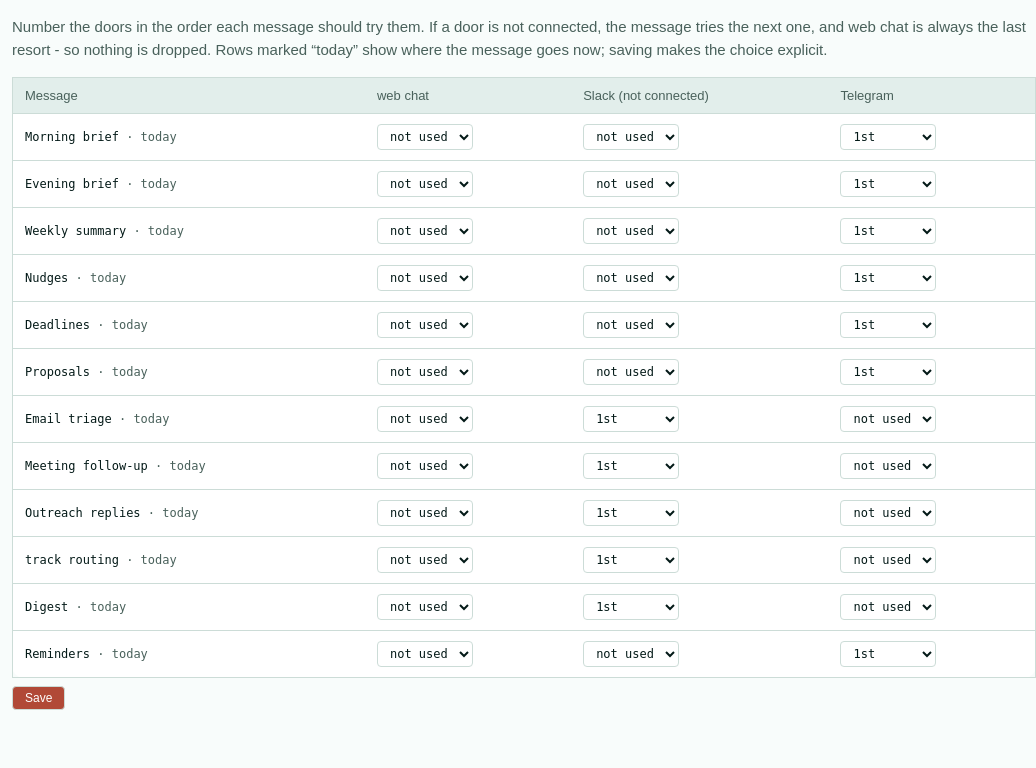
Test: DeliveryGrid › shows the refusal sentence from the save
Step 1. Click the button "Save" → coordinates (39, 698), box [12, 686, 65, 710]
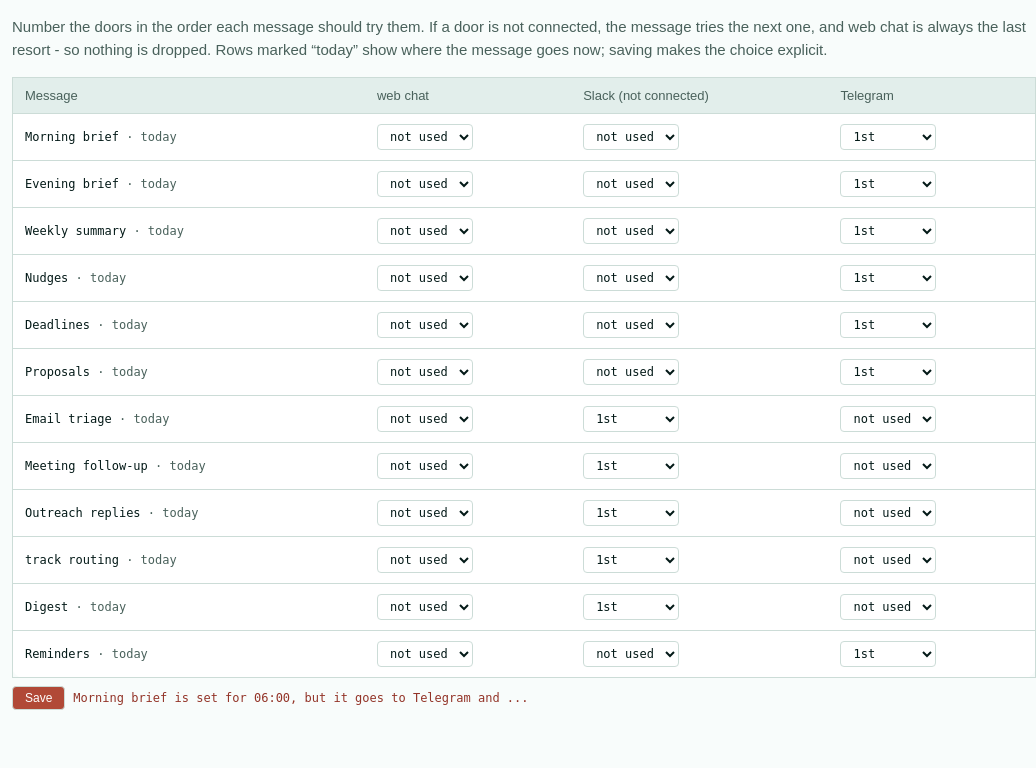
Expected: the text "Morning brief is set for 06:00, but it goes to Telegram and ..." is shown, [73, 689, 529, 707]
